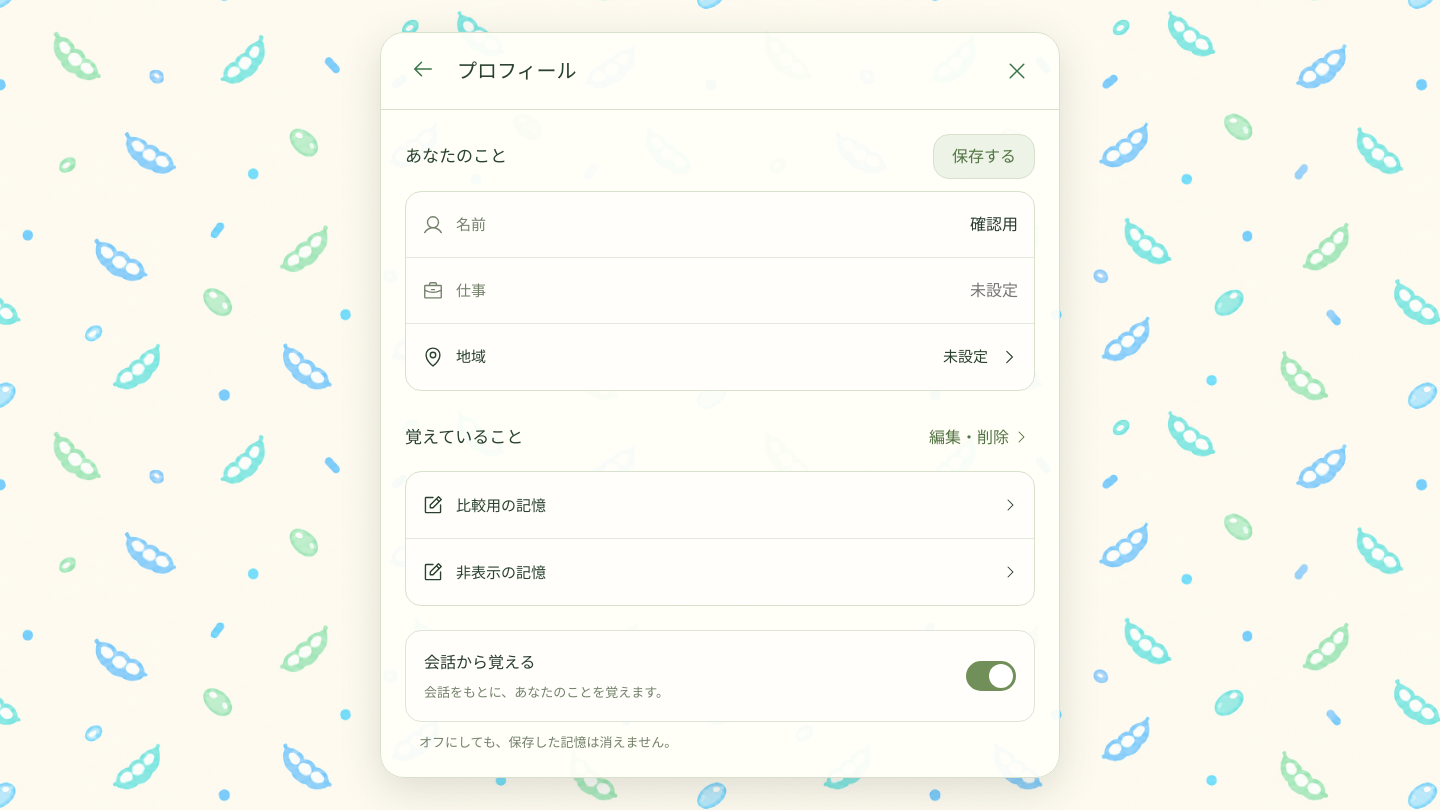
Test: saves the connected profile without requesting legacy settings
Type "企画" into the field named "職業" at (758,291), box [498,270,1018,312]
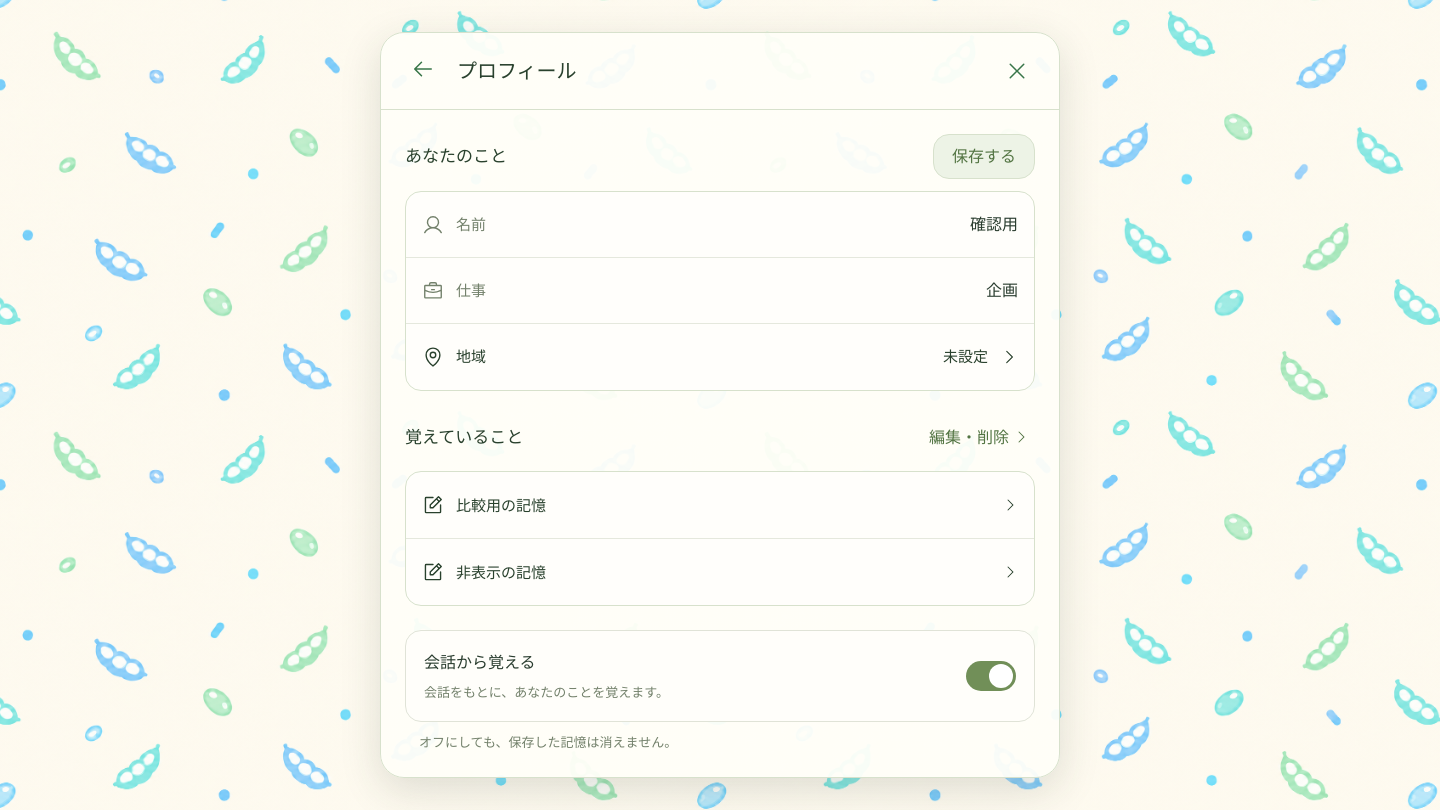
Click the button "保存する" at (984,157), box [933,134,1035,179]
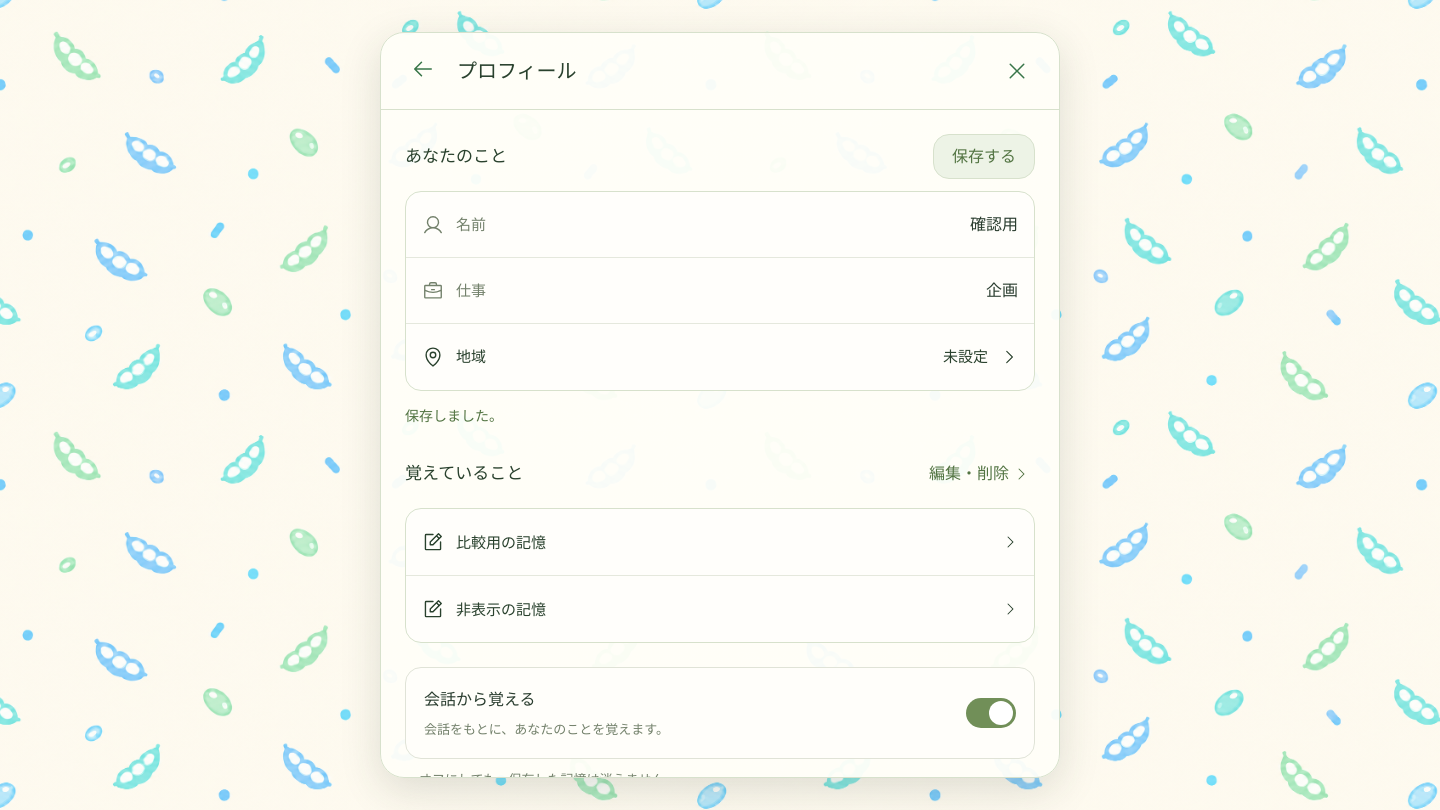
Expected: the switch is enabled, [966,698,1016,728]
Expected: the text "保存しました。" is shown, [405,406,503,425]
